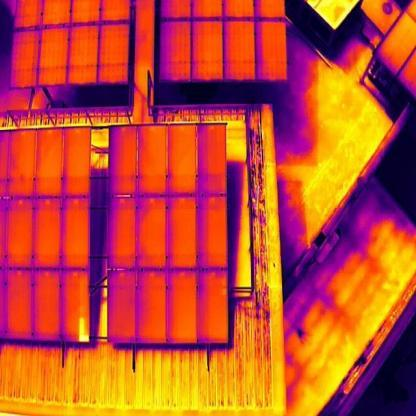anomaly: (77, 316, 91, 344)
